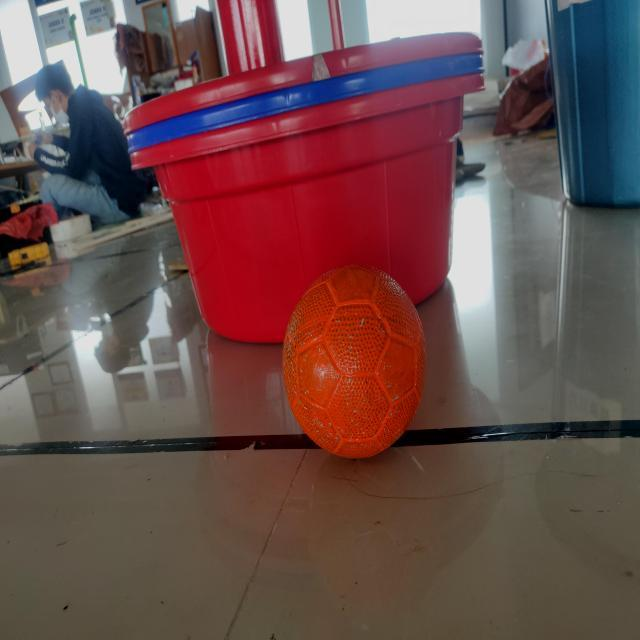bola: (272, 261, 444, 477)
